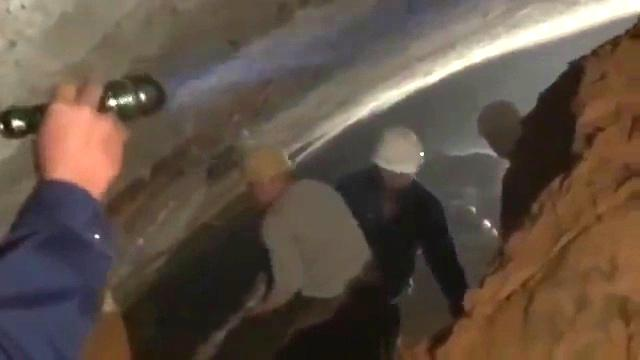helmet: (239, 140, 296, 208), (370, 125, 425, 190)
